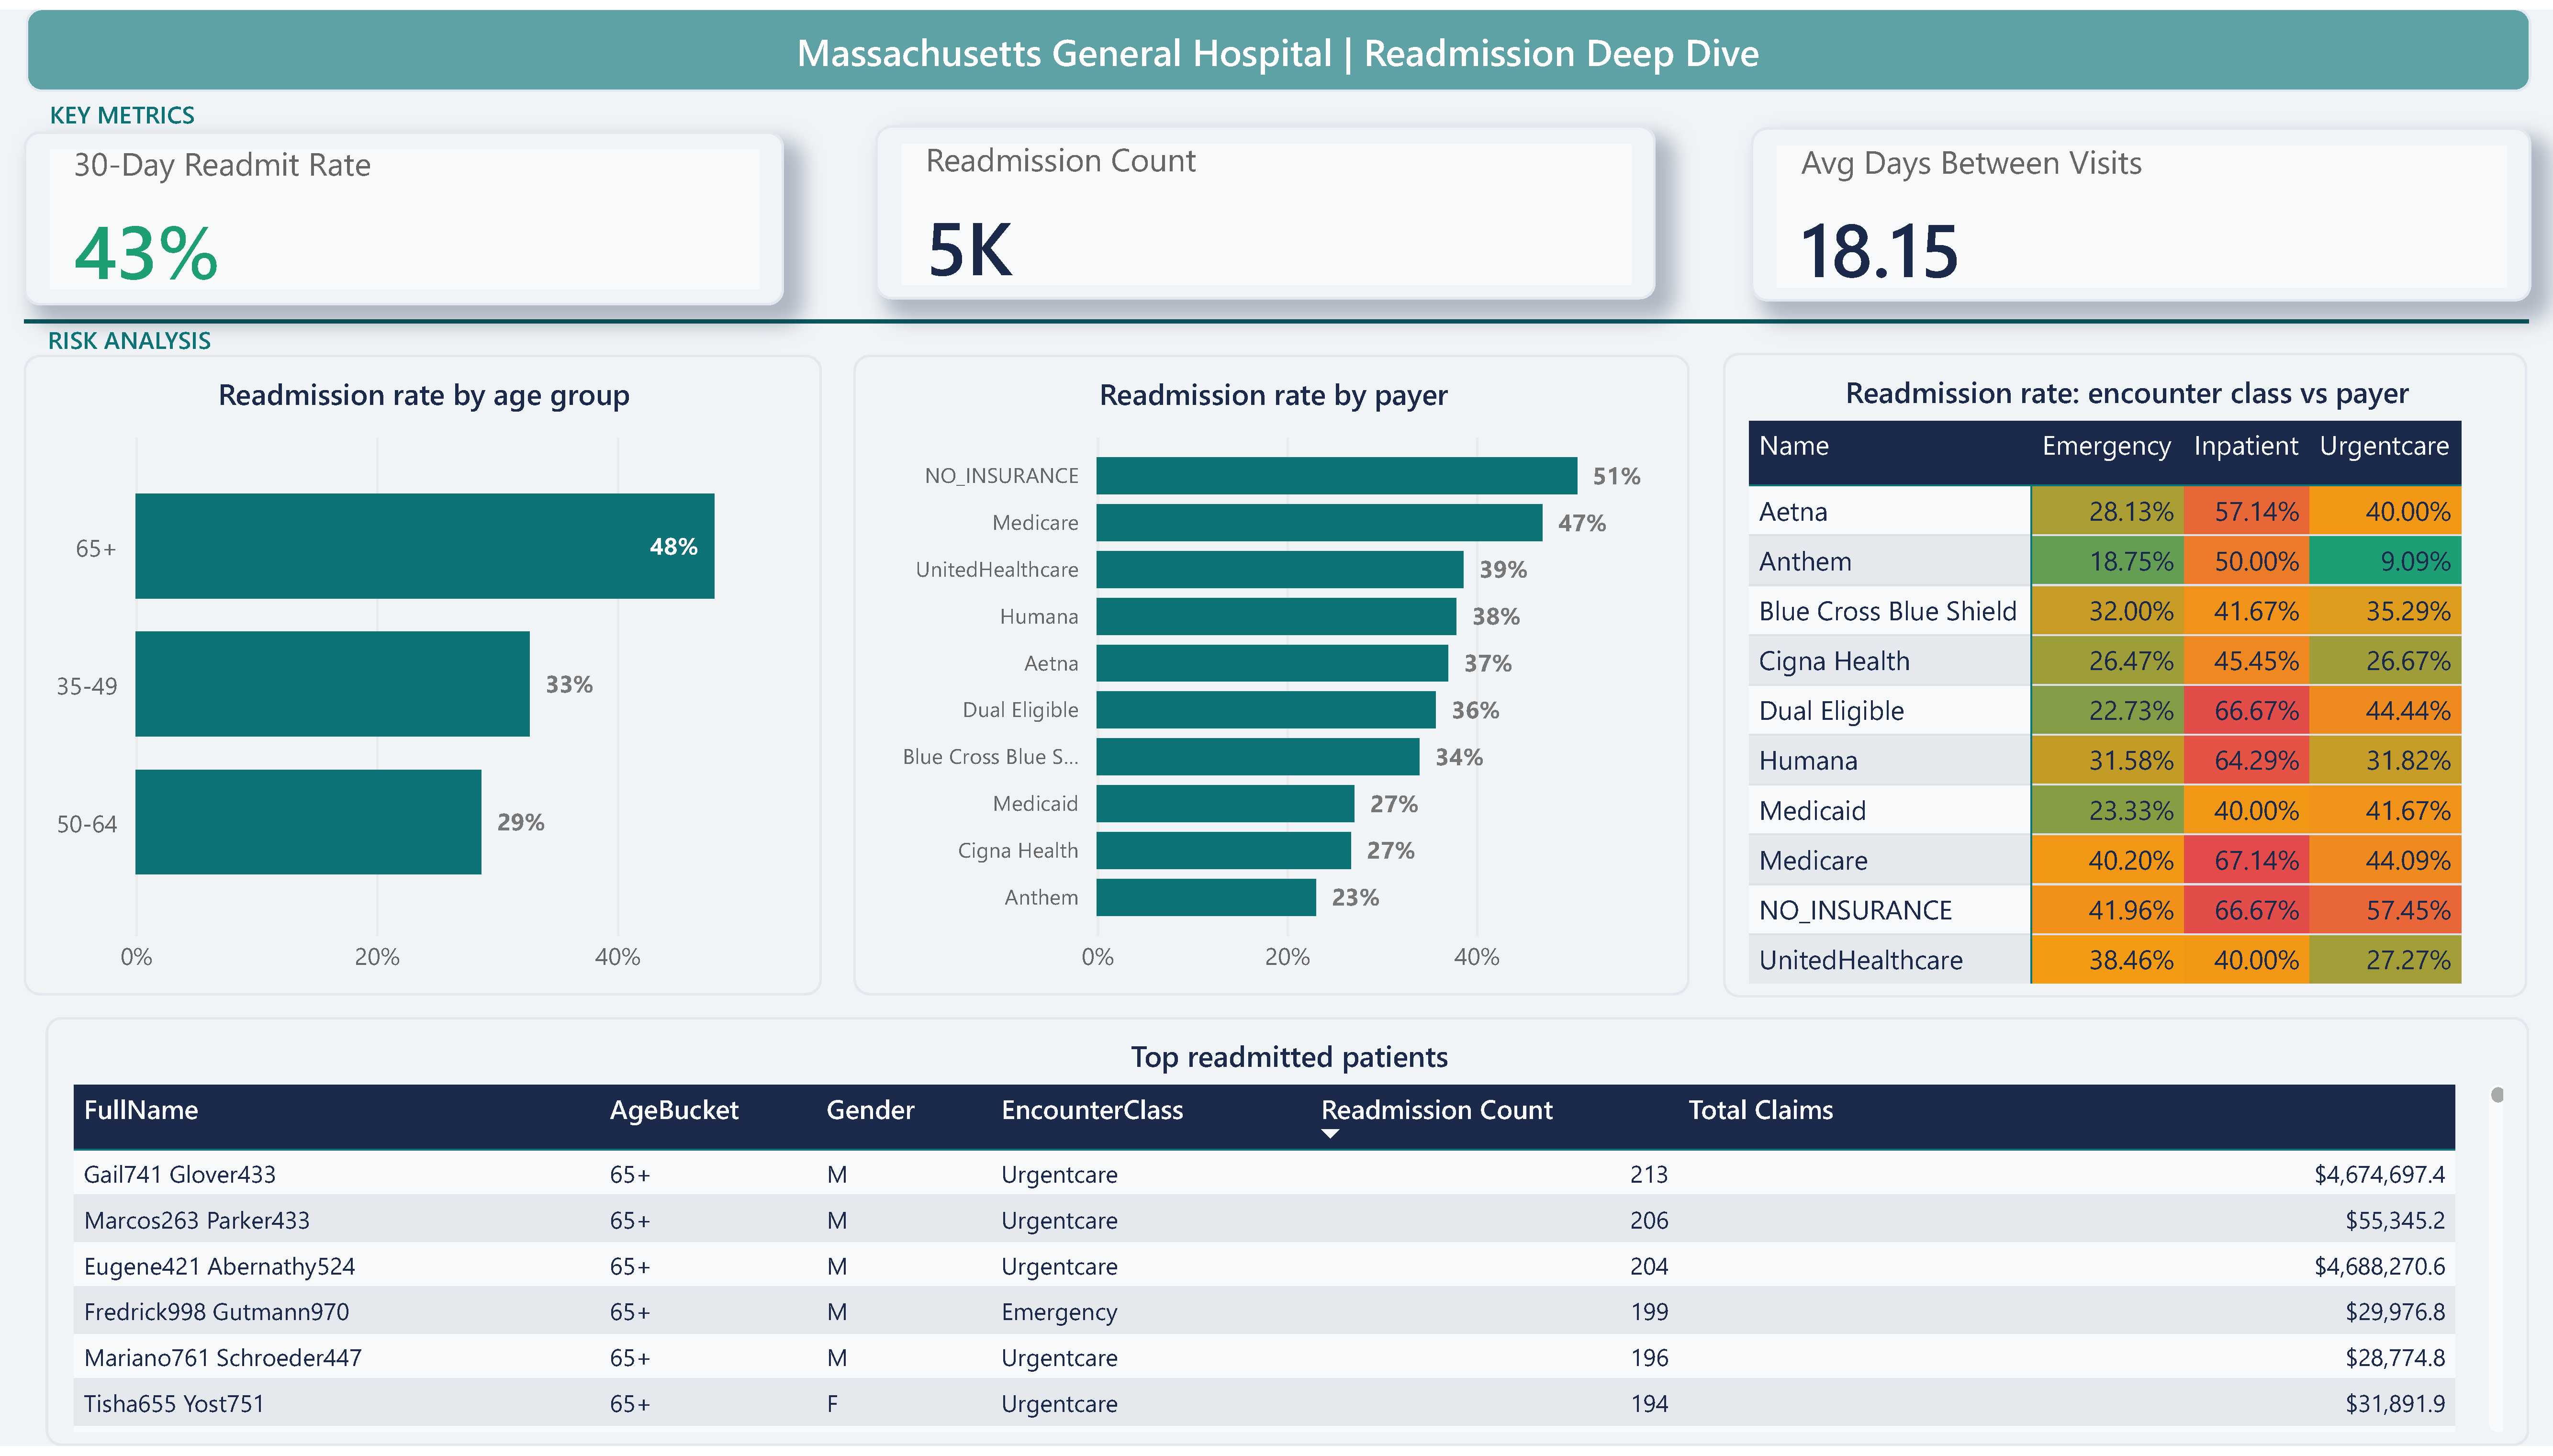

The page's visual inventory and layout, read from the dashboard file:
{"tool":"powerbi","page":{"name":"Readmission Deep dive","canvas":[1280,720],"ordinal":1},"visuals":[{"type":"textbox","box":[13.2,-1,1255.6,42],"z":0},{"type":"cardVisual","fields":{"Data":["_Measure.Readmission Rate 30-Day"]},"box":[11.7,61.1,380.9,86.7],"z":0,"group":"g1"},{"type":"clusteredBarChart","title":" Readmission rate by age group","fields":{"Category":["DimPatient.AgeBucket"],"Y":["_Measure.Readmission Rate 30-Day"]},"box":[12.3,173.9,399.5,321.4],"z":0,"group":"g2"},{"type":"cardVisual","fields":{"Data":["_Measure.Avg Days Between Visits"]},"box":[877.3,59.8,390.9,87.3],"z":1000,"group":"g1"},{"type":"shape","box":[0,140,1280.2,32.3],"z":1000},{"type":"pivotTable","title":"Readmission rate: encounter class vs payer","fields":{"Rows":["DimPayer.Name"],"Values":["_Measure.Readmission Rate 30-Day"],"Columns":["DimEncounterClass.EncounterClass"]},"box":[864.4,172.4,403.3,323.2],"z":1000,"group":"g2"},{"type":"cardVisual","fields":{"Data":["_Measure.Readmission Count"]},"box":[438.8,58.4,390.5,87.1],"z":2000,"group":"g1"},{"type":"tableEx","title":"Top readmitted patients","fields":{"Values":["DimPatient.FullName","DimPatient.AgeBucket","DimPatient.Gender","DimEncounterClass.EncounterClass","_Measure.Readmission Count","_Measure.Total Claims"]},"box":[23.5,505.3,1245.3,214.6],"z":2000},{"type":"group","id":"g1","title":"Group 1","box":[11.7,58.4,1256,88.9],"z":3000},{"type":"group","id":"g2","title":"Group 2","box":[12.3,172.4,1255.5,323.2],"z":4000},{"type":"textbox","box":[13.4,34.7,214.6,33.5],"z":5000},{"type":"textbox","box":[11.7,148.1,214.6,34.1],"z":6000},{"type":"clusteredBarChart","title":"Readmission rate by payer","fields":{"Category":["DimPayer.Name"],"Y":["_Measure.Readmission Rate 30-Day"]},"box":[428.5,173.9,419.3,321.4],"z":6004,"group":"g2"}]}

Visuals, with their boxes in screenshot pixels (x1, y1, x2, y2), scaled from the page's 1280x720 canvas onto the 2553x1456 screenshot:
textbox: box=[26, 0, 2531, 83]
cardVisual - _Measure.Readmission Rate 30-Day: box=[23, 123, 783, 299]
" Readmission rate by age group" clusteredBarChart: box=[24, 352, 821, 1002]
cardVisual - _Measure.Avg Days Between Visits: box=[1750, 121, 2530, 297]
shape: box=[0, 283, 2553, 348]
"Readmission rate: encounter class vs payer" pivotTable: box=[1724, 348, 2529, 1002]
cardVisual - _Measure.Readmission Count: box=[875, 118, 1654, 294]
"Top readmitted patients" tableEx: box=[47, 1022, 2531, 1456]
"Group 1" group: box=[23, 118, 2529, 298]
"Group 2" group: box=[24, 348, 2529, 1002]
textbox: box=[27, 70, 455, 138]
textbox: box=[23, 300, 451, 369]
"Readmission rate by payer" clusteredBarChart: box=[855, 352, 1691, 1002]
